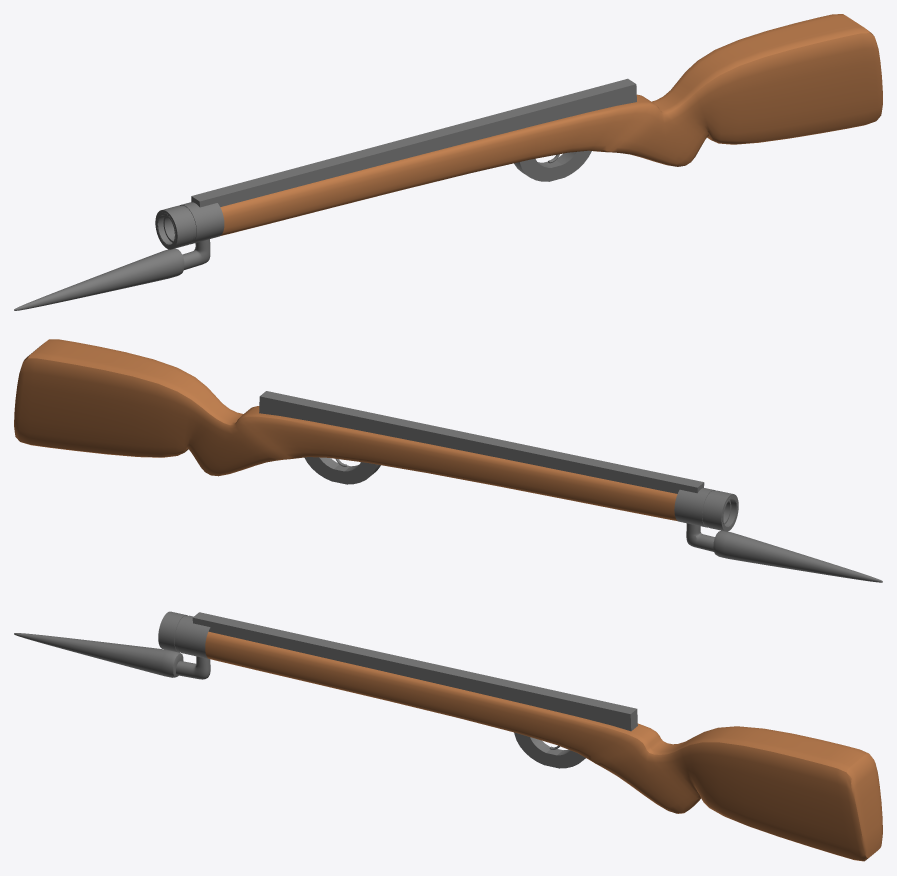
File: musket.fbx
3 views of the same model, one above another, from view 1: azimuth 30°, elevation 25°; view 2: azimuth 150°, elevation 25°; view 3: azimuth 330°, elevation 25° (orthographic). The views are drawn at different scales.
Parts seen in each view (by area): view 1: pixel; view 2: pixel; view 3: pixel.
Boxes of the visible parts, x1,y1,x2,y2 form: pixel: (14,14,882,310); pixel: (14,339,882,582); pixel: (14,611,882,861).
Size of the model in its own units: 86.42 by 9.7 by 8.
